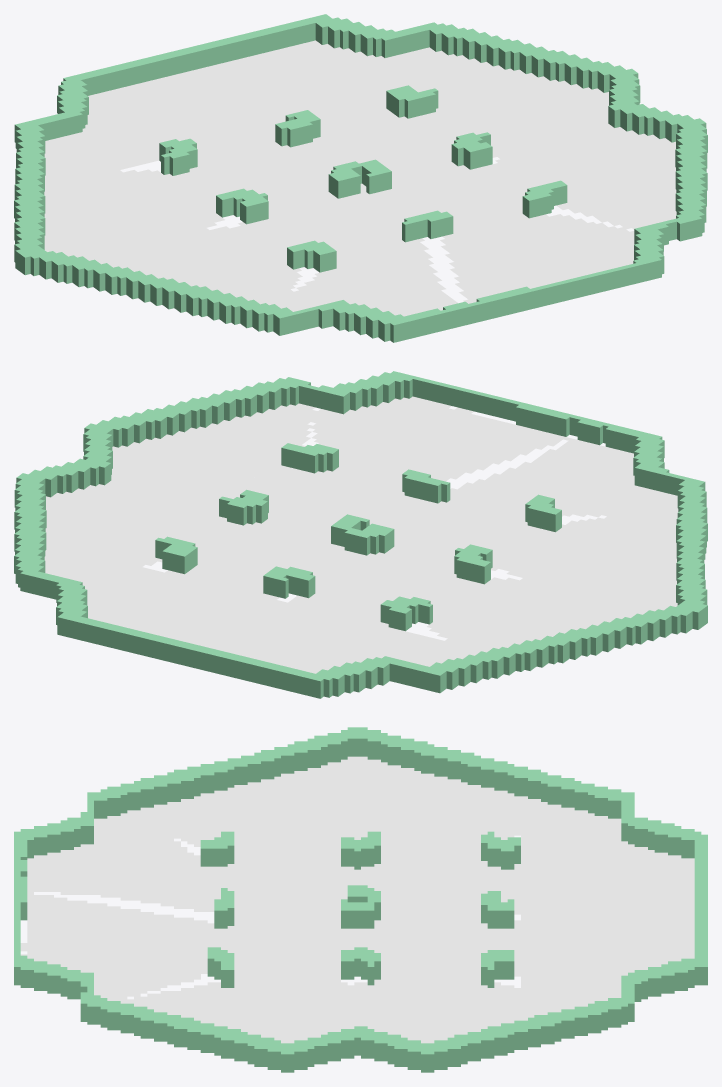
File: map.glb
3 renders of one model, top to bottom at view 1: azimuth 30°, elevation 25°; view 2: azimuth 150°, elevation 25°; view 3: azimuth 270°, elevation 25°, orthographic. The views are drawn at different scales.
Visible parts, largest first — view 1: Plane0, Cube0; view 2: Plane0, Cube0; view 3: Plane0, Cube0.
Boxes of the visible parts, left/top/right/bottom form: Plane0: left=44, top=40, right=676, bottom=316; Cube0: left=14, top=14, right=707, bottom=342; Plane0: left=44, top=396, right=678, bottom=673; Cube0: left=14, top=371, right=707, bottom=698; Plane0: left=20, top=756, right=694, bottom=1043; Cube0: left=14, top=727, right=707, bottom=1072.
Bounding box in the file's own units: 116 × 3 × 104.
